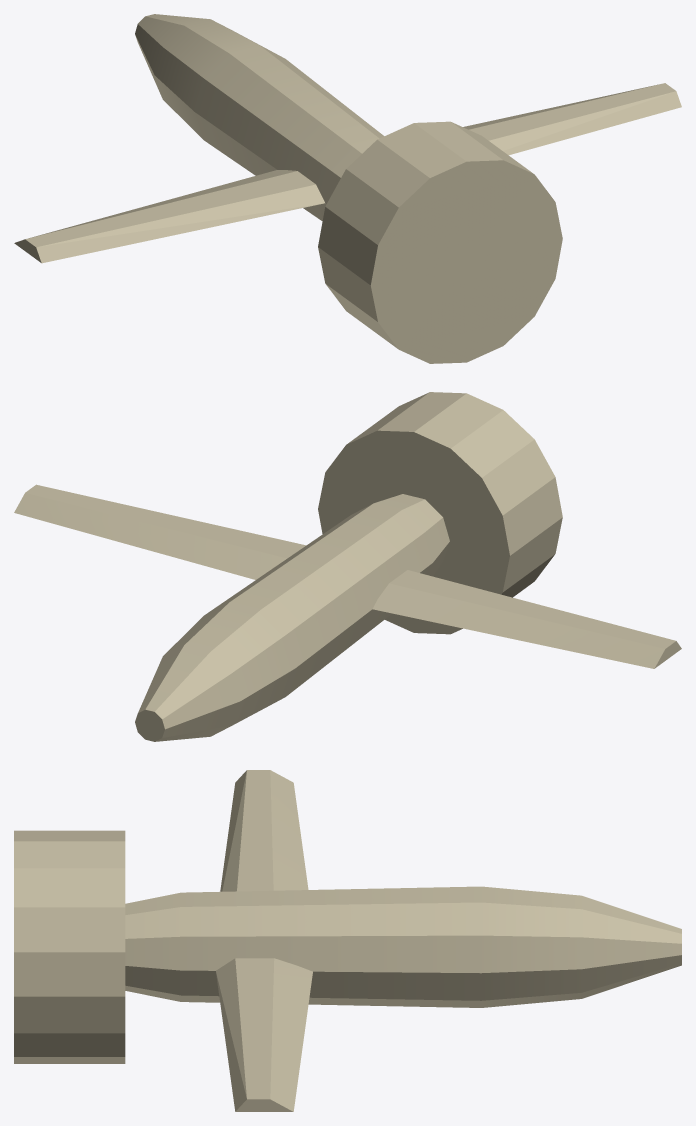
File: usa_uav_vbat.glb
The picture shows the model from 3 angles, top to bottom: view 1: azimuth 30°, elevation 25°; view 2: azimuth 150°, elevation 25°; view 3: azimuth 270°, elevation 25°; orthographic projection. The views are drawn at different scales.
Visible parts, largest first — view 1: body; view 2: body; view 3: body.
Part boxes in pixels (<box>): body: <box>14,14,681,363</box>; body: <box>14,392,681,741</box>; body: <box>14,770,681,1111</box>.
Size of the model in its own units: 2.74 by 0.8232 by 2.35.
